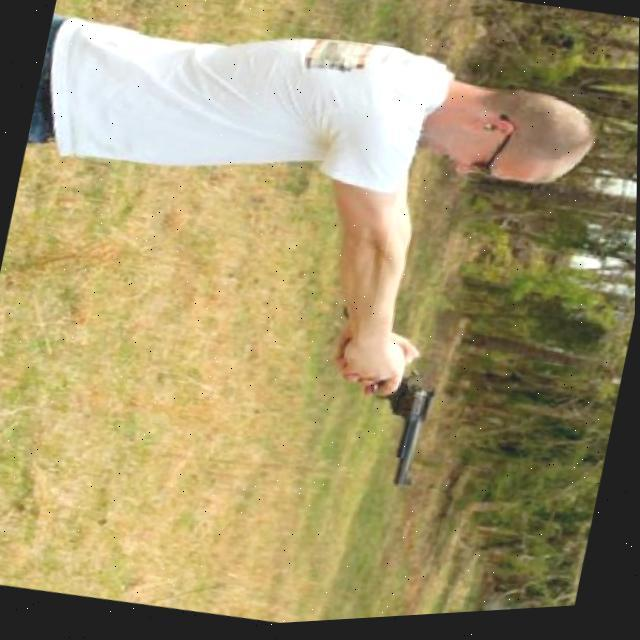gun: (349, 363, 444, 499)
